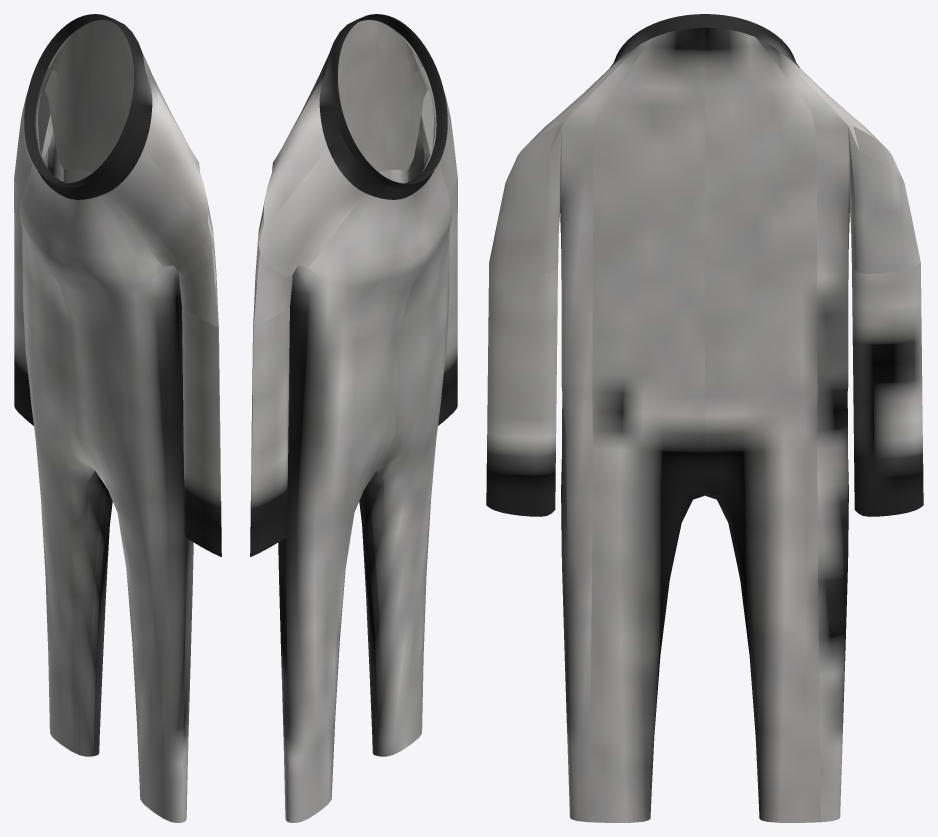
File: suit.fbx
3 renders of one model, left to right at view 1: azimuth 30°, elevation 25°; view 2: azimuth 150°, elevation 25°; view 3: azimuth 270°, elevation 25°, orthographic. The views are drawn at different scales.
Visible parts, largest first — view 1: Sphere.004; view 2: Sphere.004; view 3: Sphere.004.
Boxes of the visible parts, bbox=[...] form: Sphere.004: bbox=[14, 14, 221, 822]; Sphere.004: bbox=[250, 14, 457, 822]; Sphere.004: bbox=[486, 14, 923, 822].
Size of the model in its own units: 0.1535 by 1.21 by 0.5974.
